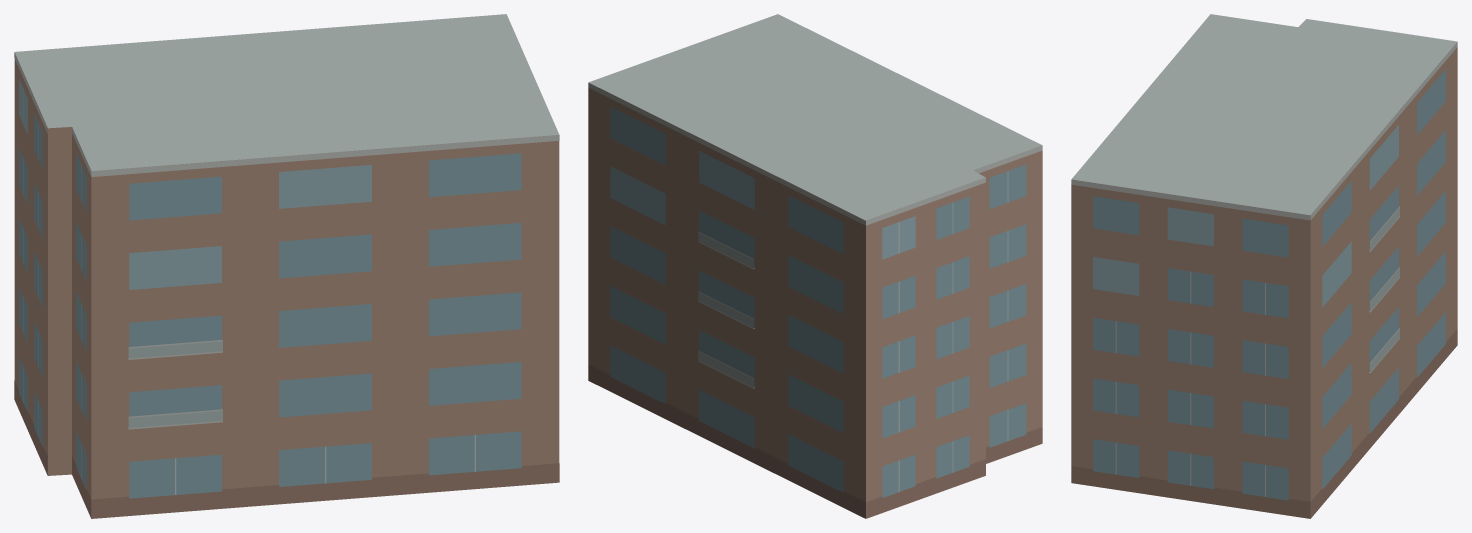
Rendered from survey-upis-32719590.glb.
3 renders of one model, left to right at view 1: azimuth 30°, elevation 25°; view 2: azimuth 150°, elevation 25°; view 3: azimuth 270°, elevation 25°, orthographic. The views are drawn at different scales.
Visible parts, largest first — view 1: survey-upis-32719590.tmp; view 2: survey-upis-32719590.tmp; view 3: survey-upis-32719590.tmp.
Part boxes in pixels (x1=…): survey-upis-32719590.tmp: x1=14, y1=14, x2=559, y2=518; survey-upis-32719590.tmp: x1=588, y1=14, x2=1042, y2=518; survey-upis-32719590.tmp: x1=1071, y1=14, x2=1457, y2=518.
Size of the model in its own units: 20.35 by 14.3 by 16.51.
